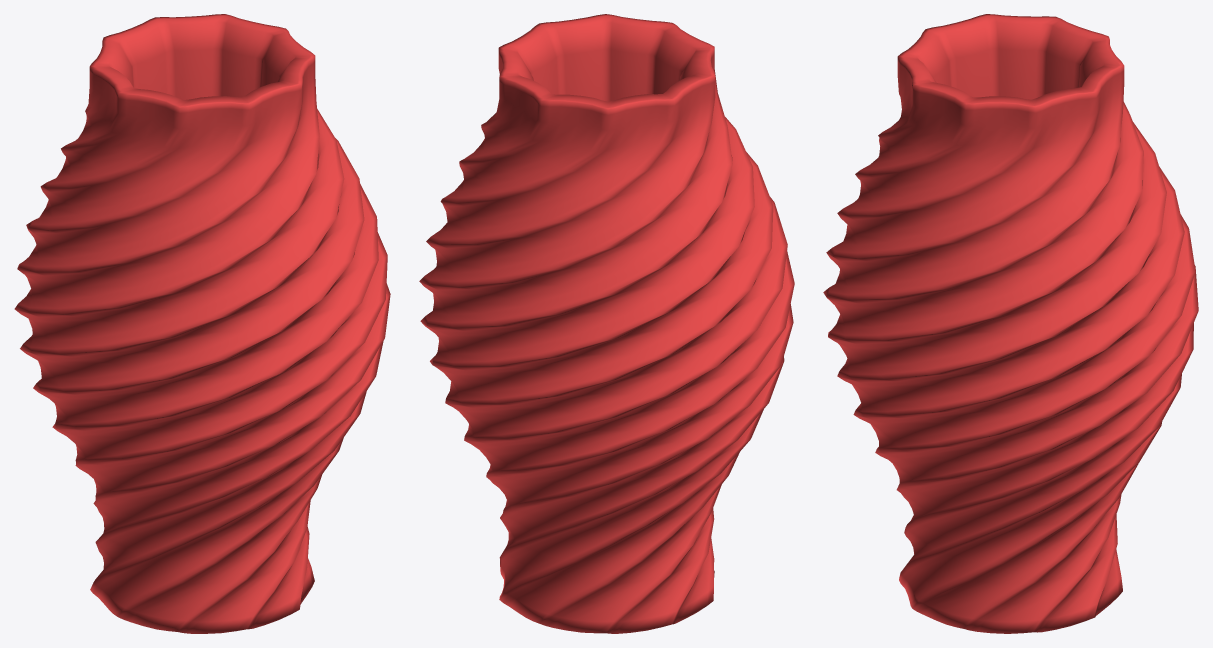
The model's file is 2nd vase.fbx.
3 renders of one model, left to right at view 1: azimuth 30°, elevation 25°; view 2: azimuth 150°, elevation 25°; view 3: azimuth 270°, elevation 25°, orthographic.
Visible parts, largest first — view 1: pasted__pCylinder40; view 2: pasted__pCylinder40; view 3: pasted__pCylinder40.
Part boxes in pixels (x1,y1,x2,y2): pasted__pCylinder40: [14, 14, 390, 633]; pasted__pCylinder40: [419, 14, 794, 633]; pasted__pCylinder40: [823, 14, 1198, 633].
Bounding box in the file's own units: 21.04 × 33.3 × 21.14.
